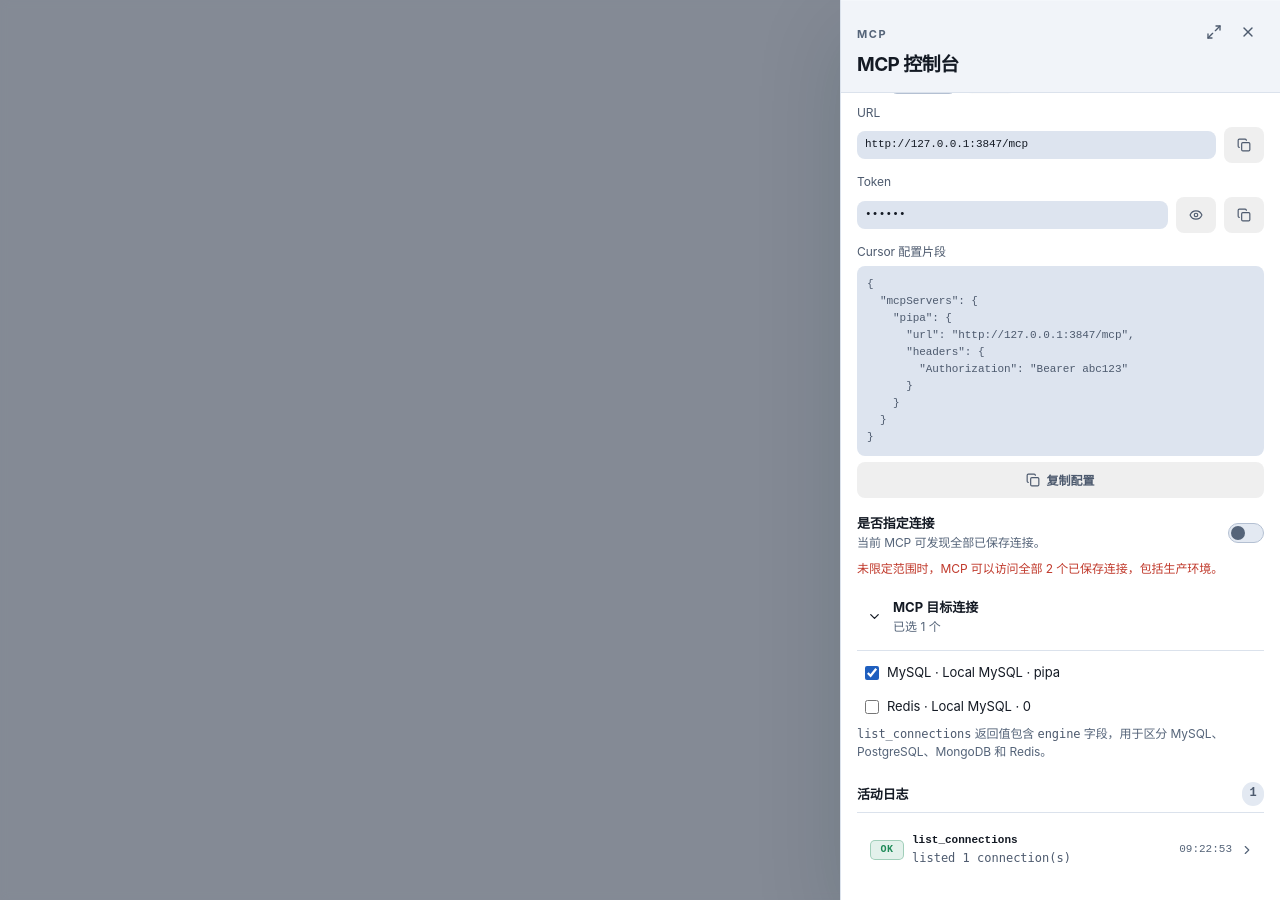
it: McpPanel › collapses and expands the MCP target connection list
The image size is (1280, 900).
(page scrolled)
Expected: the checkbox labelled "MySQL · Local MySQL · pipa" is shown, [865,666,879,680]
Step 1. Click the button "MCP 目标连接 已选 1 个" → (936, 606), box [857,590,1264,644]
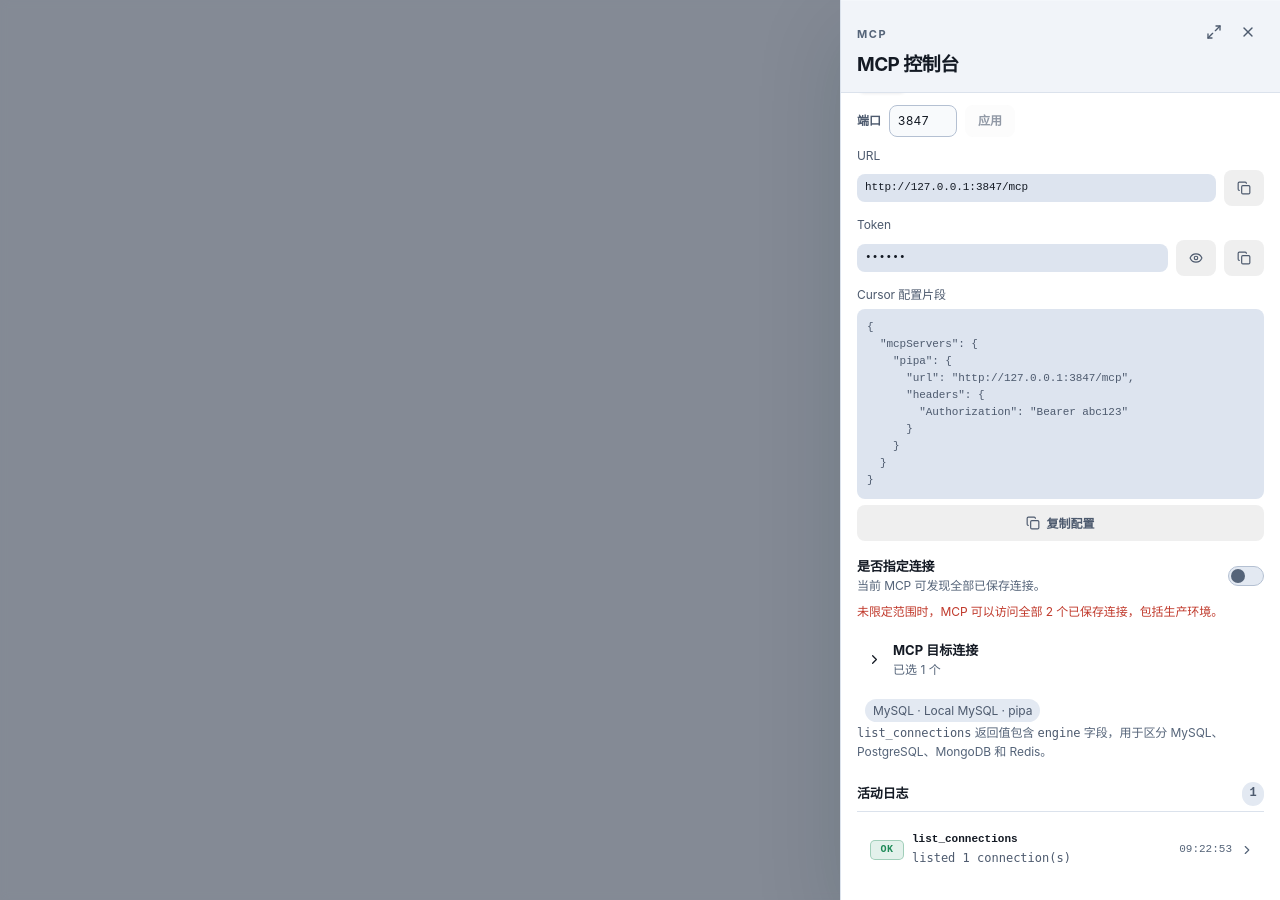
Expected: the list with class "mcp-panel__selected-chips" reads "MySQL · Local MySQL · pipa", [873,703,1032,718]
Now the button "MCP 目标连接 已选 1 个" is collapsed
Step 2. Click the button "MCP 目标连接 已选 1 个" → (936, 650), box [857,632,1264,687]
(page scrolled)
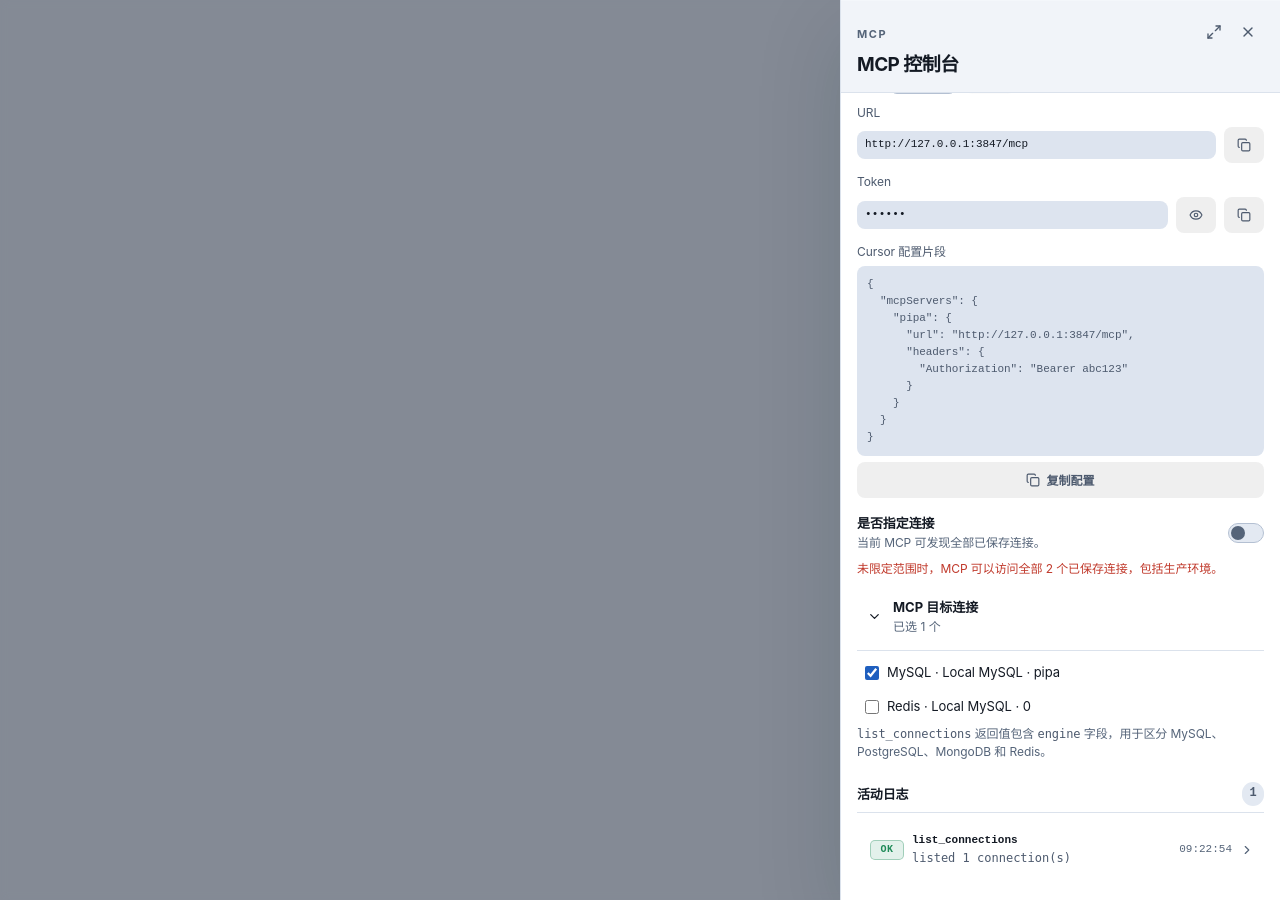
Now the button "MCP 目标连接 已选 1 个" is expanded, box [857,590,1264,644]
Now the checkbox labelled "MySQL · Local MySQL · pipa" is shown, box [865,666,879,680]
